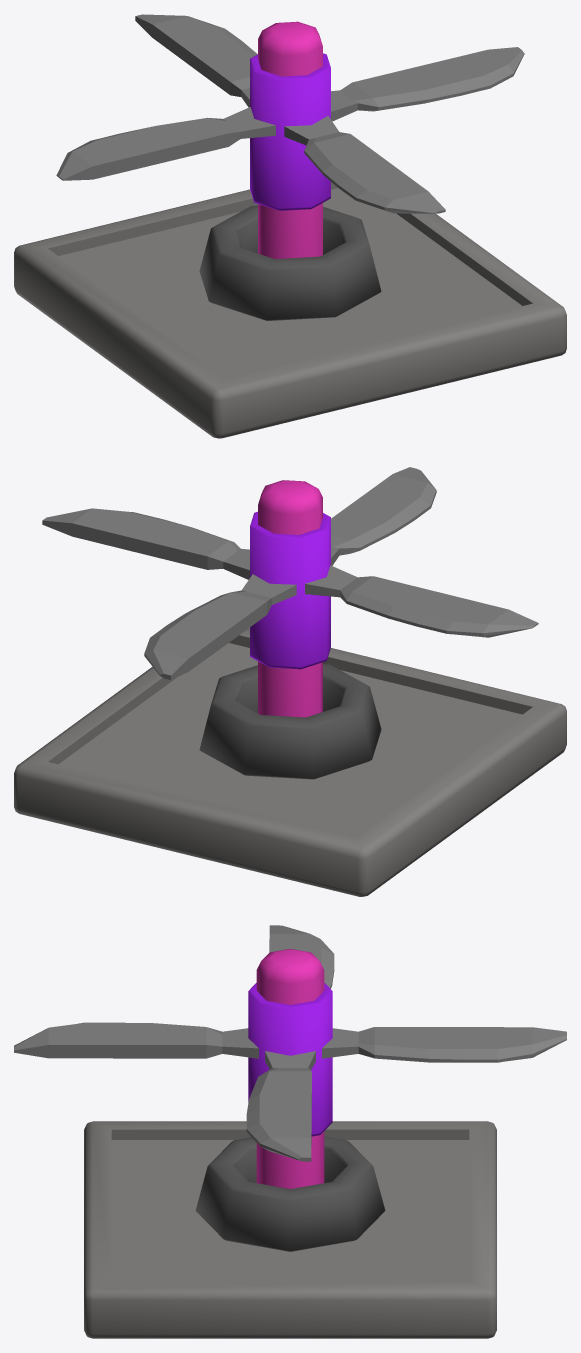
File: Cutter_Traps.fbx
3 views of the same model, one above another, from view 1: azimuth 30°, elevation 25°; view 2: azimuth 150°, elevation 25°; view 3: azimuth 270°, elevation 25° (orthographic).
Parts seen in each view (by area): view 1: Cube.003, Cylinder.010, Cylinder.007, Cylinder.009; view 2: Cube.003, Cylinder.010, Cylinder.007, Cylinder.009; view 3: Cube.003, Cylinder.010, Cylinder.007, Cylinder.009.
Boxes of the visible parts, x1,y1,x2,y2 form: Cube.003: (14,182,566,438); Cylinder.010: (56,14,524,213); Cylinder.007: (199,205,381,320); Cylinder.009: (258,21,322,258); Cube.003: (14,628,566,896); Cylinder.010: (42,467,538,679); Cylinder.007: (199,664,381,779); Cylinder.009: (258,480,322,717); Cube.003: (84,1121,496,1338); Cylinder.010: (14,925,566,1161); Cylinder.007: (195,1136,385,1251); Cylinder.009: (256,949,324,1188).
Size of the model in its own units: 268 by 159 by 268.
